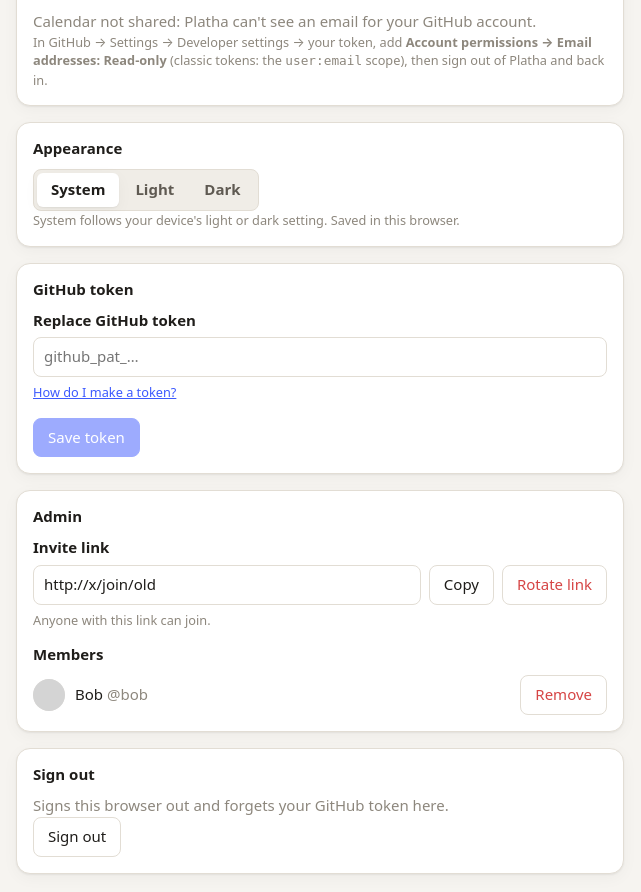
rotate asks for confirmation and shows the new link
(page scrolled)
expect the field labelled "Invite link" holds "http://x/join/old": met, box [33, 565, 421, 605]
Click the button "Rotate link" at [554, 585], box [502, 565, 607, 605]
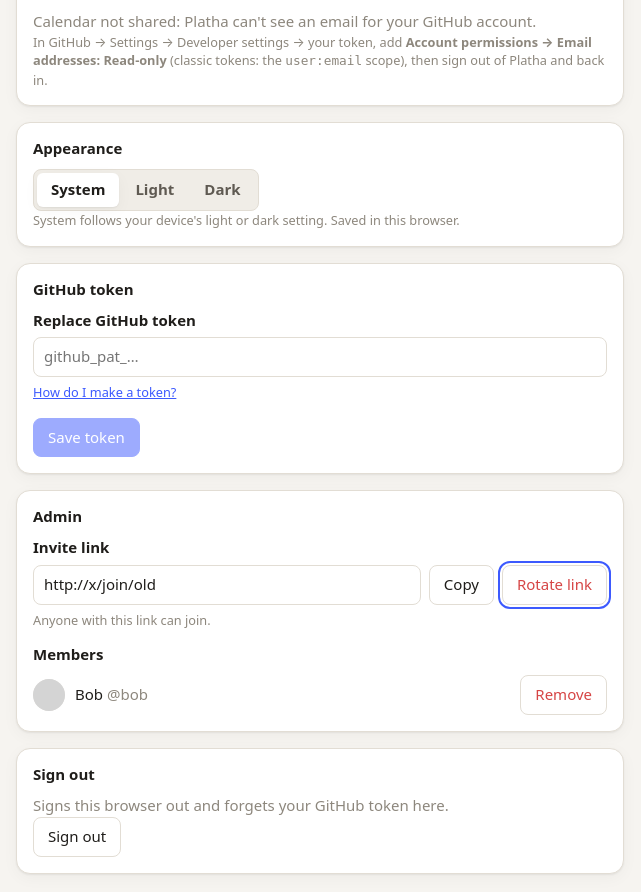
expect the field labelled "Invite link" holds "http://x/join/old": met, box [33, 565, 421, 605]
Click the button "Rotate link" at [554, 585], box [502, 565, 607, 605]
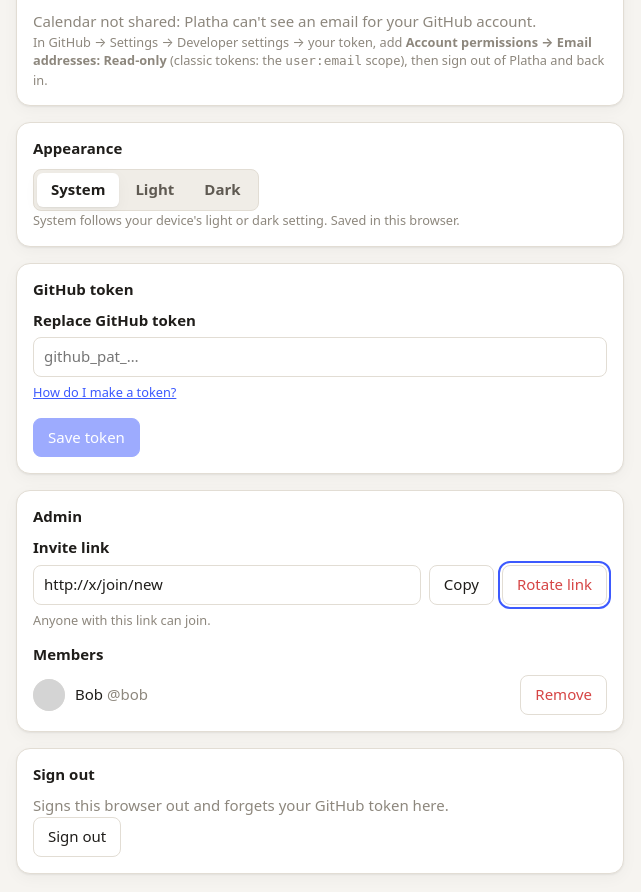
expect the field labelled "Invite link" holds "http://x/join/new": met, box [33, 565, 421, 605]
